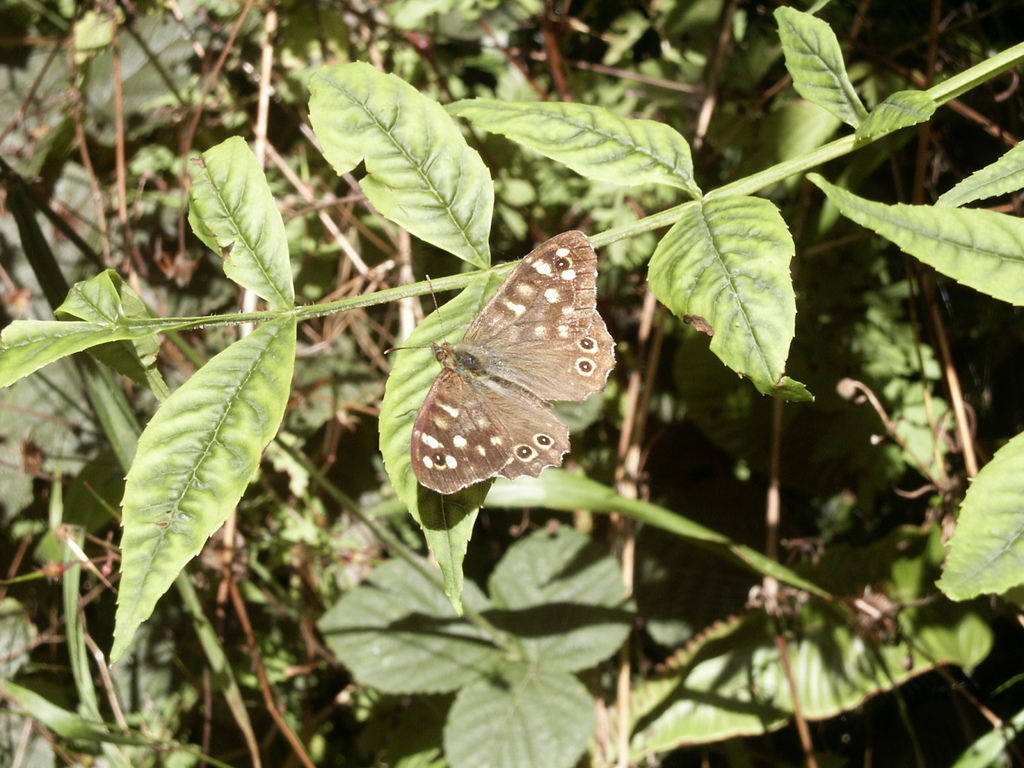Butterfly: (390, 234, 635, 507)
